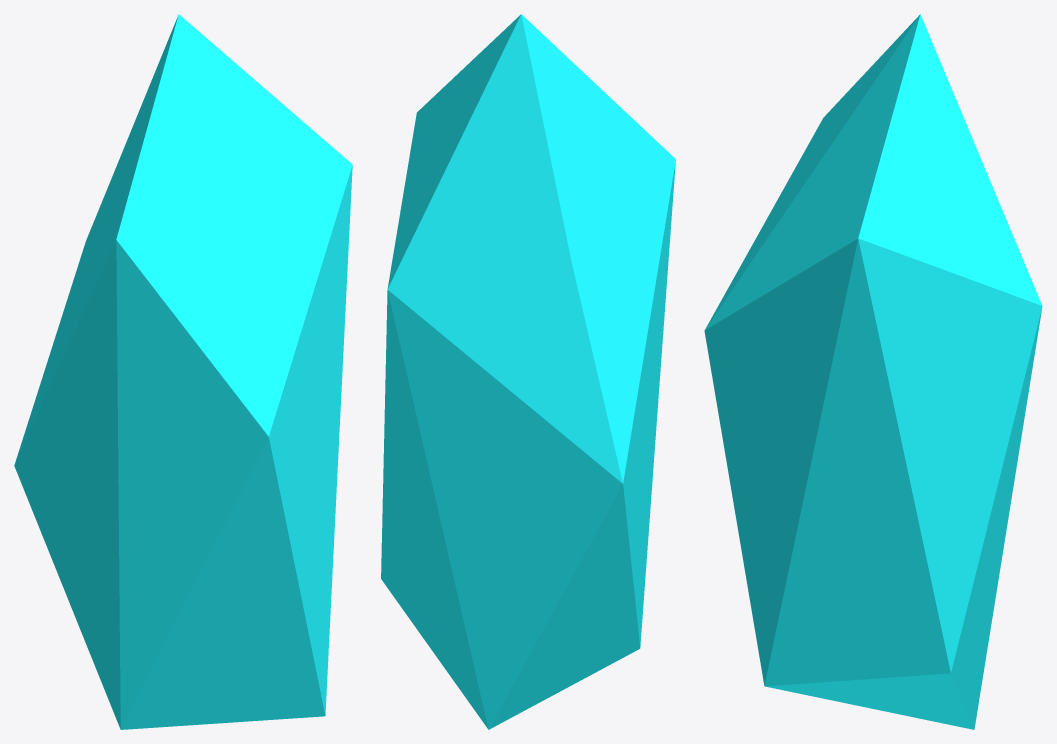
File: Cristal.fbx
3 views of the same model, side by side, from view 1: azimuth 30°, elevation 25°; view 2: azimuth 150°, elevation 25°; view 3: azimuth 270°, elevation 25° (orthographic). The views are drawn at different scales.
Parts seen in each view (by area): view 1: CheckpointCristal.001; view 2: CheckpointCristal.001; view 3: CheckpointCristal.001.
Part boxes in pixels (x1,y1,x2,y2): CheckpointCristal.001: [14, 14, 352, 729]; CheckpointCristal.001: [381, 14, 675, 729]; CheckpointCristal.001: [704, 14, 1042, 729].
Bounding box in the file's own units: 74.3 × 188 × 80.66.
